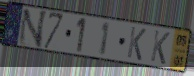1: (75, 17, 88, 55), (99, 21, 111, 57)
7: (42, 10, 66, 50)
K: (126, 25, 148, 63), (149, 29, 171, 67)
N: (17, 8, 49, 49)
